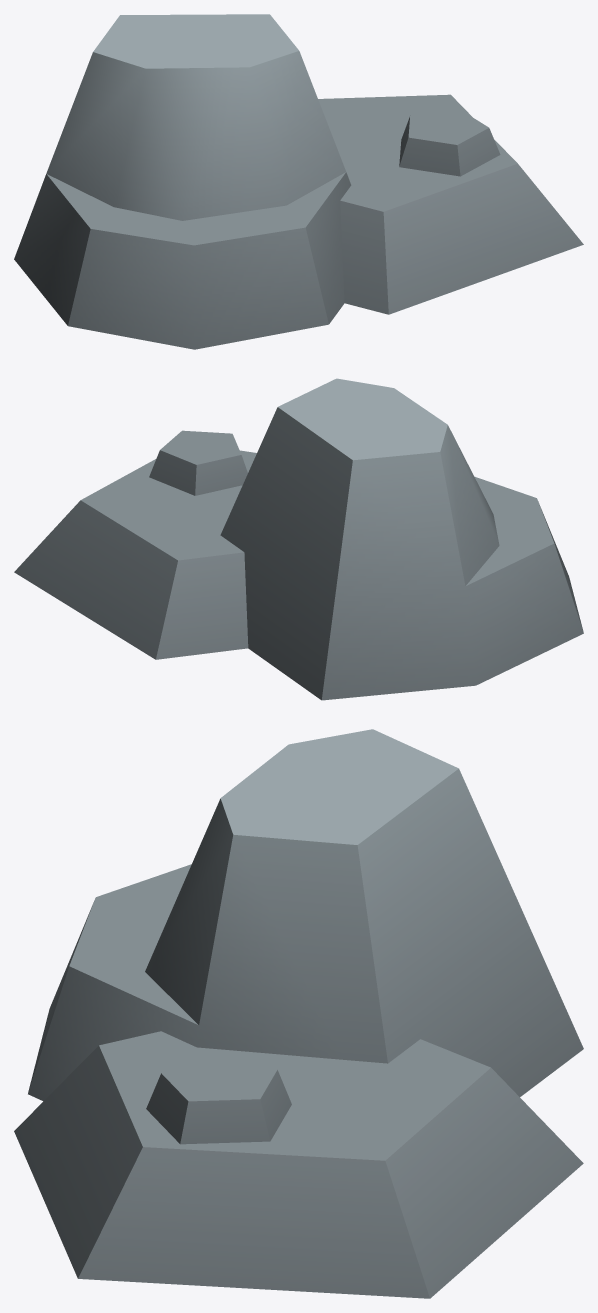
The model's file is kk_rock_E.glb.
The picture shows the model from 3 angles, top to bottom: view 1: azimuth 30°, elevation 25°; view 2: azimuth 150°, elevation 25°; view 3: azimuth 270°, elevation 25°; orthographic projection. The views are drawn at different scales.
Parts seen in each view (by area): view 1: rock_single_E; view 2: rock_single_E; view 3: rock_single_E.
Boxes of the visible parts, x1,y1,x2,y2 form: rock_single_E: (14, 14, 583, 349); rock_single_E: (14, 378, 583, 700); rock_single_E: (14, 729, 583, 1298).
Bounding box in the file's own units: 0.4881 × 0.1948 × 0.3475.
Materials: 1 (1 with a texture image).
